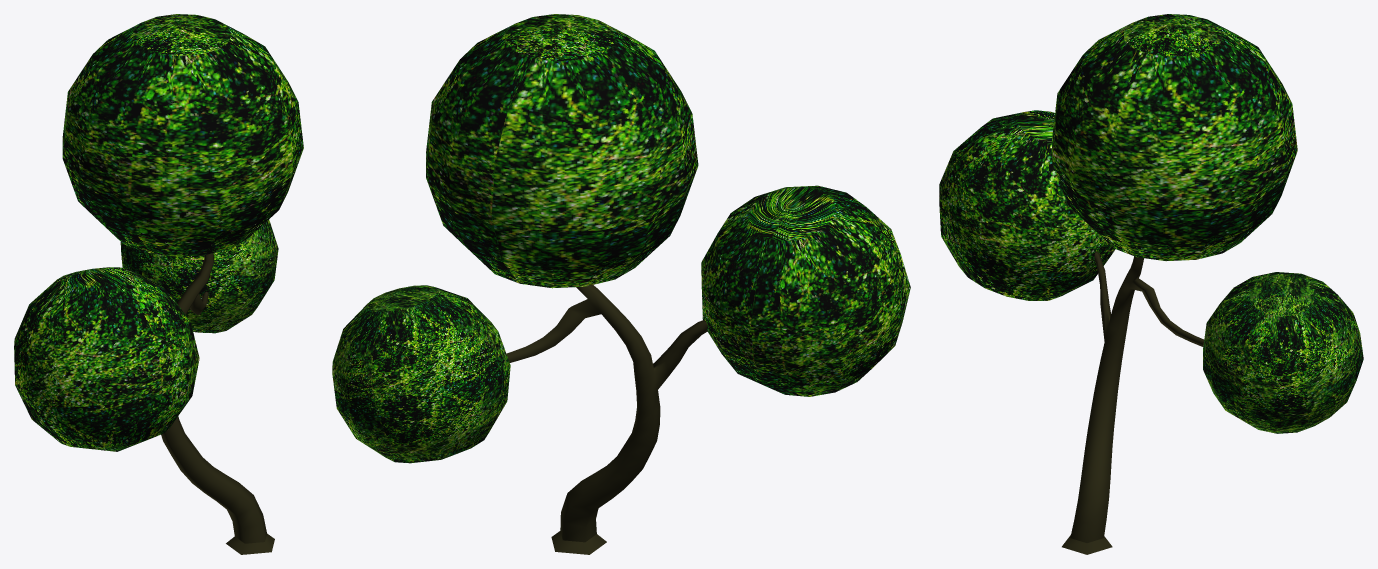
File: tree.FBX
The picture shows the model from 3 angles, left to right: view 1: azimuth 30°, elevation 25°; view 2: azimuth 150°, elevation 25°; view 3: azimuth 270°, elevation 25°; orthographic projection. The views are drawn at different scales.
Parts seen in each view (by area): view 1: Sphere002, Sphere003, Sphere001, Cylinder001; view 2: Sphere002, Sphere003, Sphere001, Cylinder001; view 3: Sphere002, Sphere003, Sphere001, Cylinder001.
Boxes of the visible parts, x1,y1,x2,y2 form: Sphere002: (62,14,303,256); Sphere003: (14,267,199,451); Sphere001: (120,219,278,333); Cylinder001: (161,253,274,554); Sphere002: (426,14,698,288); Sphere003: (701,185,910,396); Sphere001: (332,285,510,463); Cylinder001: (506,285,707,554); Sphere002: (1052,14,1297,261); Sphere003: (939,110,1115,300); Sphere001: (1203,272,1363,433); Cylinder001: (1062,252,1204,554).
Size of the model in its own units: 130 by 168 by 129.
2 materials, 1 textured.
